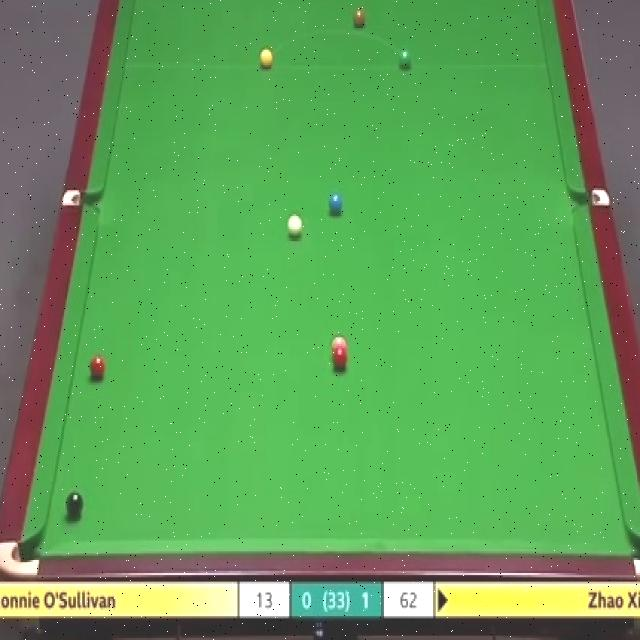black-ball: (62, 495, 80, 524)
blue-ball: (328, 191, 343, 216)
brown-ball: (352, 8, 366, 30)
green-ball: (397, 47, 412, 69)
pink-ball: (330, 335, 348, 350)
red-ball: (88, 352, 105, 381), (332, 347, 349, 370)
white-ball: (286, 210, 302, 238)
yellow-ball: (260, 48, 273, 69)
